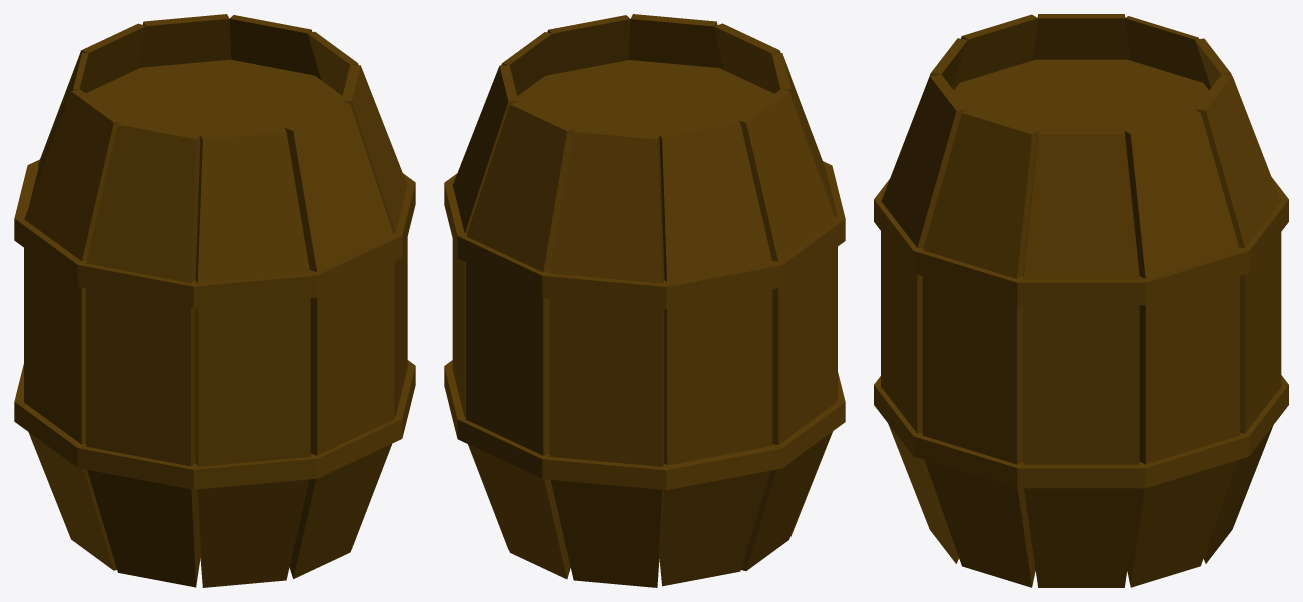
File: barrel.fbx
The picture shows the model from 3 angles, left to right: view 1: azimuth 30°, elevation 25°; view 2: azimuth 150°, elevation 25°; view 3: azimuth 270°, elevation 25°; orthographic projection.
Parts seen in each view (by area): view 1: Wooden_Barrell; view 2: Wooden_Barrell; view 3: Wooden_Barrell.
Boxes of the visible parts, x1,y1,x2,y2 form: Wooden_Barrell: (14,14,415,587); Wooden_Barrell: (444,14,845,587); Wooden_Barrell: (874,14,1288,587).
Size of the model in its own units: 109 by 139 by 115.
